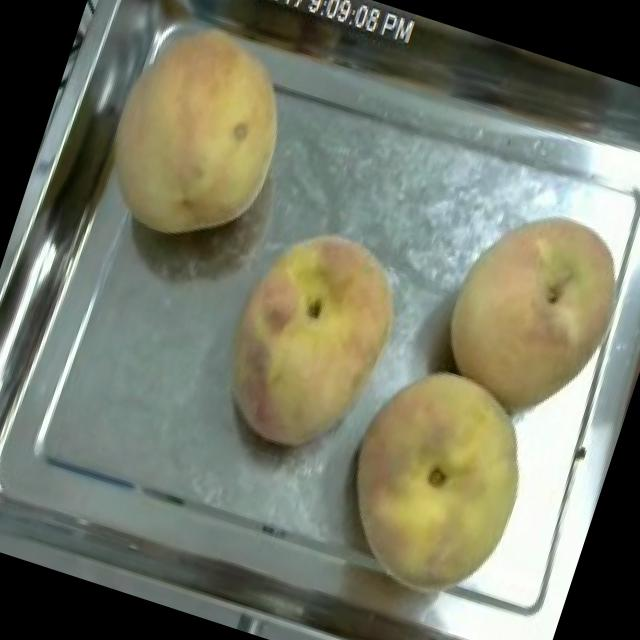Fruit: (314, 342, 562, 620), (72, 0, 316, 269), (195, 204, 429, 478), (417, 182, 640, 438)
